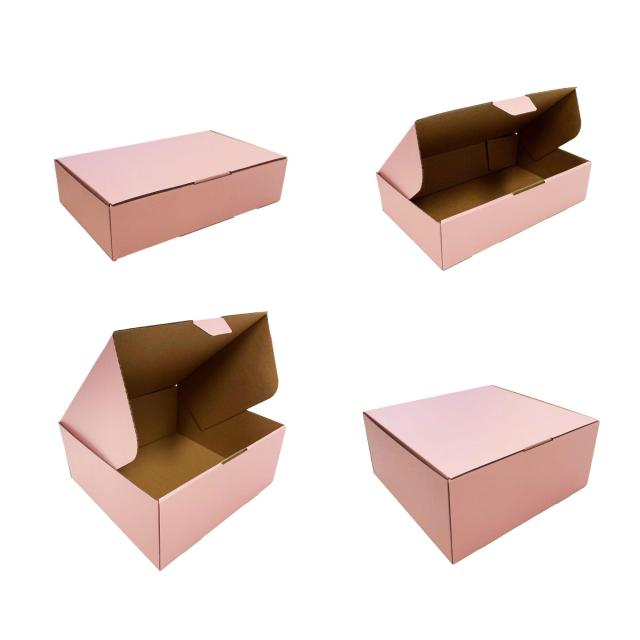Garbage: (42, 293, 310, 583), (362, 62, 608, 278)
Pathole: (338, 344, 624, 586), (24, 78, 317, 274)
